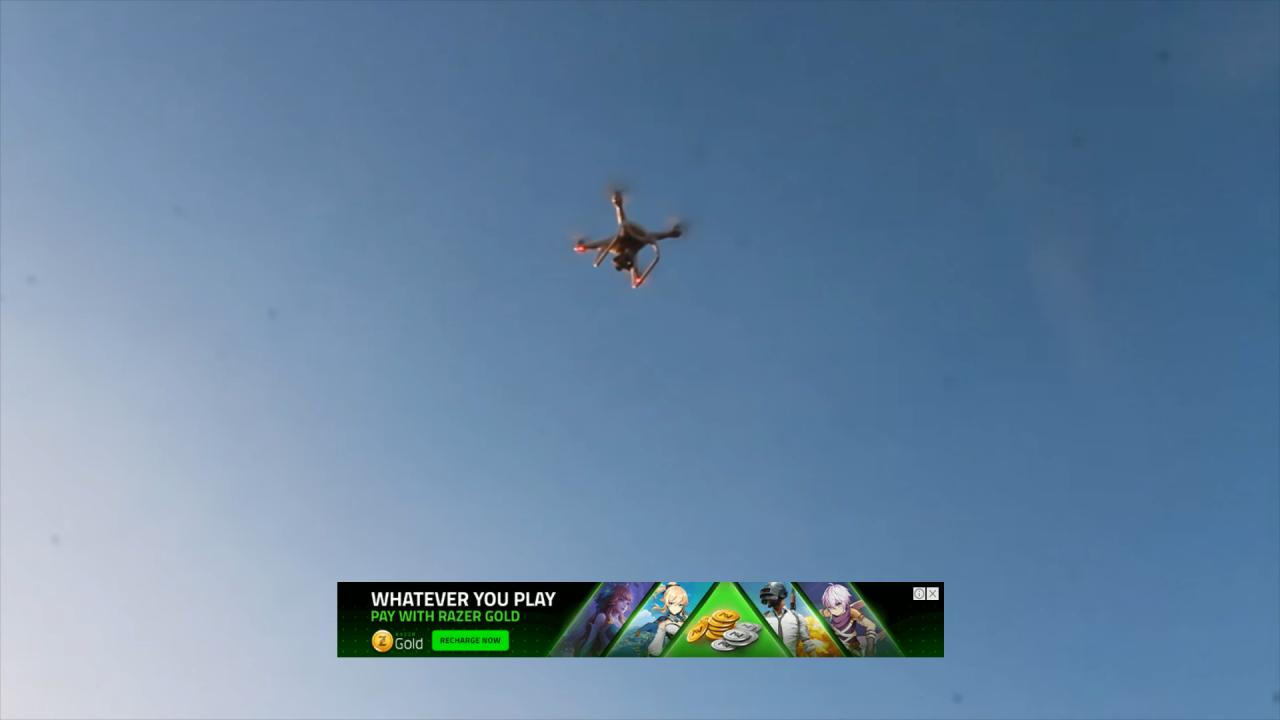Drone: (563, 174, 698, 297)
